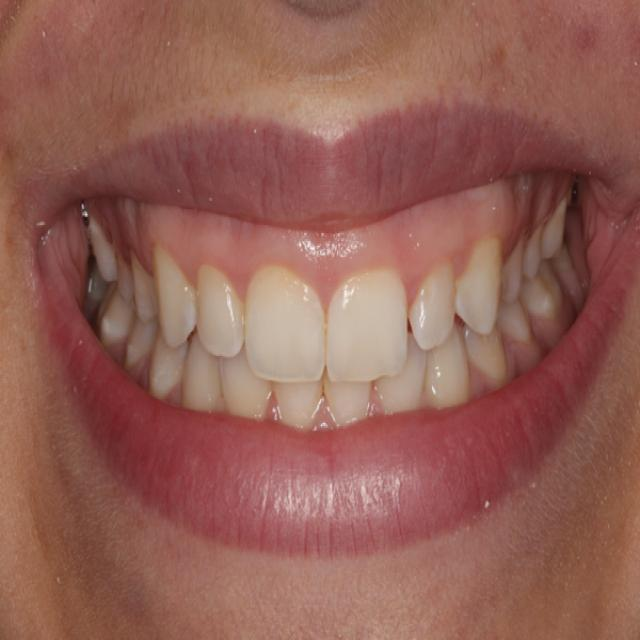tooth: (247, 265, 336, 381), (326, 271, 411, 375), (454, 235, 507, 338), (192, 262, 251, 352), (155, 244, 196, 348), (375, 346, 431, 416), (214, 354, 271, 420), (412, 262, 458, 343), (421, 346, 477, 407), (500, 298, 543, 368), (273, 370, 326, 425), (183, 340, 223, 412), (464, 326, 510, 388), (95, 287, 134, 356), (320, 373, 379, 415), (85, 211, 118, 284), (532, 274, 566, 342), (129, 256, 157, 330), (518, 223, 548, 280), (126, 311, 156, 366), (500, 238, 521, 310), (153, 344, 179, 400), (540, 197, 563, 256), (116, 246, 134, 297)
